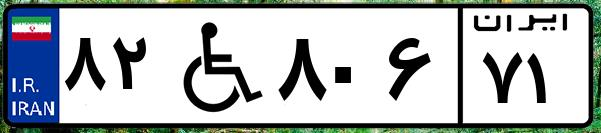0: (330, 28, 385, 110)
1: (525, 38, 570, 115)
2: (110, 28, 158, 98)
6: (385, 28, 445, 110)
7: (475, 38, 525, 113)
8: (270, 28, 330, 110), (57, 26, 110, 100)
ژ (معلولین و جانبازان): (158, 12, 270, 120)
